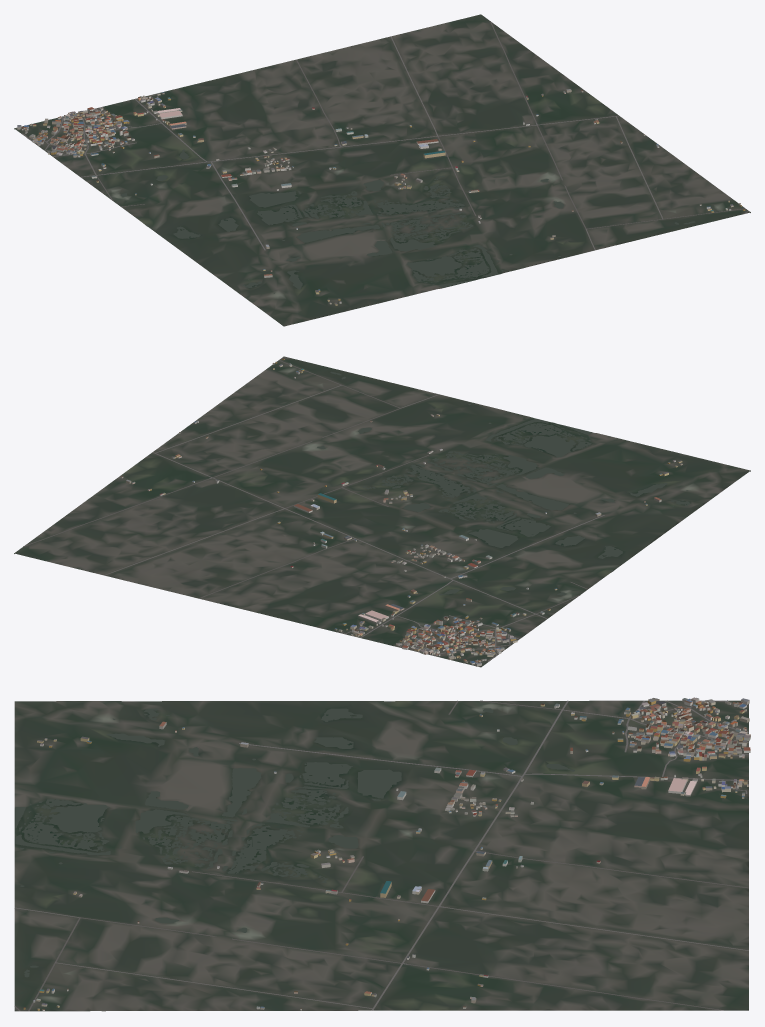
3 views of the same model, one above another, from view 1: azimuth 30°, elevation 25°; view 2: azimuth 150°, elevation 25°; view 3: azimuth 270°, elevation 25° (orthographic). The views are drawn at different scales.
Visible parts, largest first — view 1: ground, water, buildings, roads; view 2: ground, water, buildings, roads; view 3: ground, water, buildings, roads.
Boxes of the visible parts, x1,y1,x2,y2 form: ground: [14, 14, 750, 326]; water: [120, 149, 695, 293]; buildings: [17, 89, 745, 305]; roads: [22, 21, 748, 250]; ground: [14, 356, 750, 667]; water: [317, 371, 689, 595]; buildings: [120, 358, 682, 666]; roads: [23, 357, 604, 661]; ground: [14, 700, 748, 1011]; water: [15, 701, 574, 977]; buildings: [23, 697, 750, 1011]; roads: [14, 700, 748, 1011].
Bounding box in the file's own units: 1406 × 18.37 × 1407.
